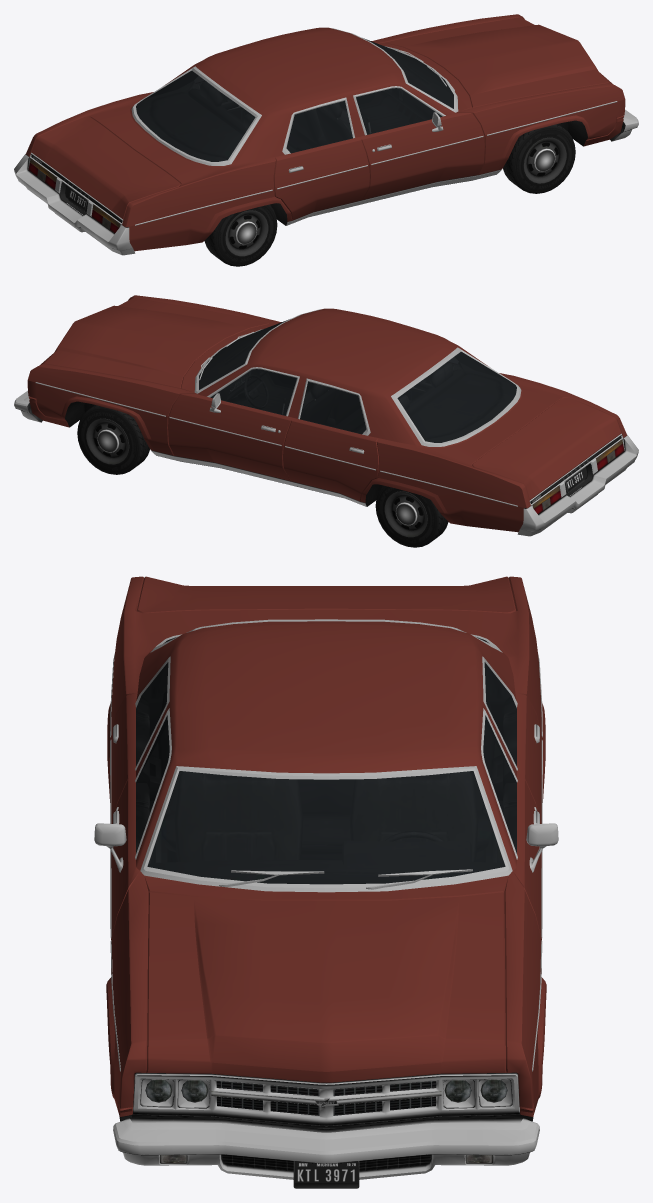
File: chapman_73.glb
3 views of the same model, one above another, from view 1: azimuth 30°, elevation 25°; view 2: azimuth 150°, elevation 25°; view 3: azimuth 270°, elevation 25° (orthographic). The views are drawn at different scales.
Parts seen in each view (by area): view 1: Chapman73_Body_Chapman73_Bodymat_0, Chapman73_Interior_UCB_Interiors_2_0, Chapman73_Hood_Chapman73_Bodymat_0, Chapman73_Trunk_Door_Chapman73_Bodymat_0, Chapman73_Bottom_UCB_BOTTOM_LT_0, Chapman73_Glass_Rear_UCB_Lights_and_Glass_Transperent_0, Chapman73_WheelStock_FR_RB1c_Tire_1k_0, Chapman73_WheelStock_RR_RB1c_Tire_1k_0, Chapman73_Bumper_Rear_UCB_BOTTOM_LT_0, Chapman73_Glass_Passenger_UCB_Lights_and_Glass_Transperent_0, Chapman73_Glass_Body_UCB_Lights_and_Glass_Transperent_0, Chapman73_Windshield_UCB_Lights_and_Glass_Transperent_0 (+1 smaller); view 2: Chapman73_Body_Chapman73_Bodymat_0, Chapman73_Interior_UCB_Interiors_2_0, Chapman73_Hood_Chapman73_Bodymat_0, Chapman73_Trunk_Door_Chapman73_Bodymat_0, Chapman73_Bottom_UCB_BOTTOM_LT_0, Chapman73_Glass_Rear_UCB_Lights_and_Glass_Transperent_0, Chapman73_WheelStock_FL_RB1c_Tire_1k_0, Chapman73_WheelStock_RL_RB1c_Tire_1k_0, Chapman73_Bumper_Rear_UCB_BOTTOM_LT_0, Chapman73_Glass_Driver_UCB_Lights_and_Glass_Transperent_0, Chapman73_Glass_Body_UCB_Lights_and_Glass_Transperent_0, Chapman73_Windshield_UCB_Lights_and_Glass_Transperent_0 (+1 smaller); view 3: Chapman73_Body_Chapman73_Bodymat_0, Chapman73_Hood_Chapman73_Bodymat_0, Chapman73_Interior_UCB_Interiors_2_0, Chapman73_Windshield_UCB_Lights_and_Glass_Transperent_0, Chapman73_Bottom_UCB_BOTTOM_LT_0, Chapman73_Bumper_Front_UCB_BOTTOM_LT_0, Chapman73_Trunk_Door_Chapman73_Bodymat_0, Chapman73_Glass_Body_UCB_Lights_and_Glass_Transperent_0, Chapman73_Headlights_UCB_Lights_and_Glass_0, Chapman73_Glass_Driver_UCB_Lights_and_Glass_Transperent_0, Chapman73_Glass_Passenger_UCB_Lights_and_Glass_Transperent_0, Chapman73_Numberplate_Front_Numberplates_Misk_U_0.
Boxes of the visible parts, x1,y1,x2,y2 form: Chapman73_Body_Chapman73_Bodymat_0: (26, 14, 625, 251); Chapman73_Interior_UCB_Interiors_2_0: (136, 47, 453, 161); Chapman73_Hood_Chapman73_Bodymat_0: (384, 17, 612, 107); Chapman73_Trunk_Door_Chapman73_Bodymat_0: (31, 117, 180, 219); Chapman73_Bottom_UCB_BOTTOM_LT_0: (28, 28, 617, 233); Chapman73_Glass_Rear_UCB_Lights_and_Glass_Transperent_0: (136, 70, 255, 161); Chapman73_WheelStock_FR_RB1c_Tire_1k_0: (503, 124, 575, 193); Chapman73_WheelStock_RR_RB1c_Tire_1k_0: (204, 204, 277, 266); Chapman73_Bumper_Rear_UCB_BOTTOM_LT_0: (14, 154, 135, 255); Chapman73_Glass_Passenger_UCB_Lights_and_Glass_Transperent_0: (356, 88, 442, 134); Chapman73_Glass_Body_UCB_Lights_and_Glass_Transperent_0: (195, 77, 352, 153); Chapman73_Windshield_UCB_Lights_and_Glass_Transperent_0: (363, 38, 453, 108); Chapman73_Body_Chapman73_Bodymat_0: (27, 295, 626, 532); Chapman73_Interior_UCB_Interiors_2_0: (199, 328, 516, 442); Chapman73_Hood_Chapman73_Bodymat_0: (40, 298, 268, 388); Chapman73_Trunk_Door_Chapman73_Bodymat_0: (472, 398, 621, 500); Chapman73_Bottom_UCB_BOTTOM_LT_0: (35, 309, 624, 514); Chapman73_Glass_Rear_UCB_Lights_and_Glass_Transperent_0: (397, 351, 516, 442); Chapman73_WheelStock_FL_RB1c_Tire_1k_0: (77, 405, 149, 474); Chapman73_WheelStock_RL_RB1c_Tire_1k_0: (375, 485, 448, 547); Chapman73_Bumper_Rear_UCB_BOTTOM_LT_0: (517, 435, 638, 536); Chapman73_Glass_Driver_UCB_Lights_and_Glass_Transperent_0: (210, 369, 296, 415); Chapman73_Glass_Body_UCB_Lights_and_Glass_Transperent_0: (300, 358, 457, 434); Chapman73_Windshield_UCB_Lights_and_Glass_Transperent_0: (199, 319, 289, 389); Chapman73_Body_Chapman73_Bodymat_0: (106, 576, 546, 1116); Chapman73_Hood_Chapman73_Bodymat_0: (146, 892, 506, 1082); Chapman73_Interior_UCB_Interiors_2_0: (136, 639, 516, 883); Chapman73_Windshield_UCB_Lights_and_Glass_Transperent_0: (147, 771, 505, 884); Chapman73_Bottom_UCB_BOTTOM_LT_0: (94, 619, 558, 1128); Chapman73_Bumper_Front_UCB_BOTTOM_LT_0: (113, 1117, 539, 1179); Chapman73_Trunk_Door_Chapman73_Bodymat_0: (137, 576, 515, 613); Chapman73_Glass_Body_UCB_Lights_and_Glass_Transperent_0: (136, 662, 516, 766); Chapman73_Headlights_UCB_Lights_and_Glass_0: (145, 1079, 507, 1102); Chapman73_Glass_Driver_UCB_Lights_and_Glass_Transperent_0: (483, 715, 516, 853); Chapman73_Glass_Passenger_UCB_Lights_and_Glass_Transperent_0: (136, 715, 169, 853); Chapman73_Numberplate_Front_Numberplates_Misk_U_0: (293, 1161, 359, 1188).
Size of the model in its own units: 5.67 by 1.42 by 2.12.
8 materials, 7 textured.
